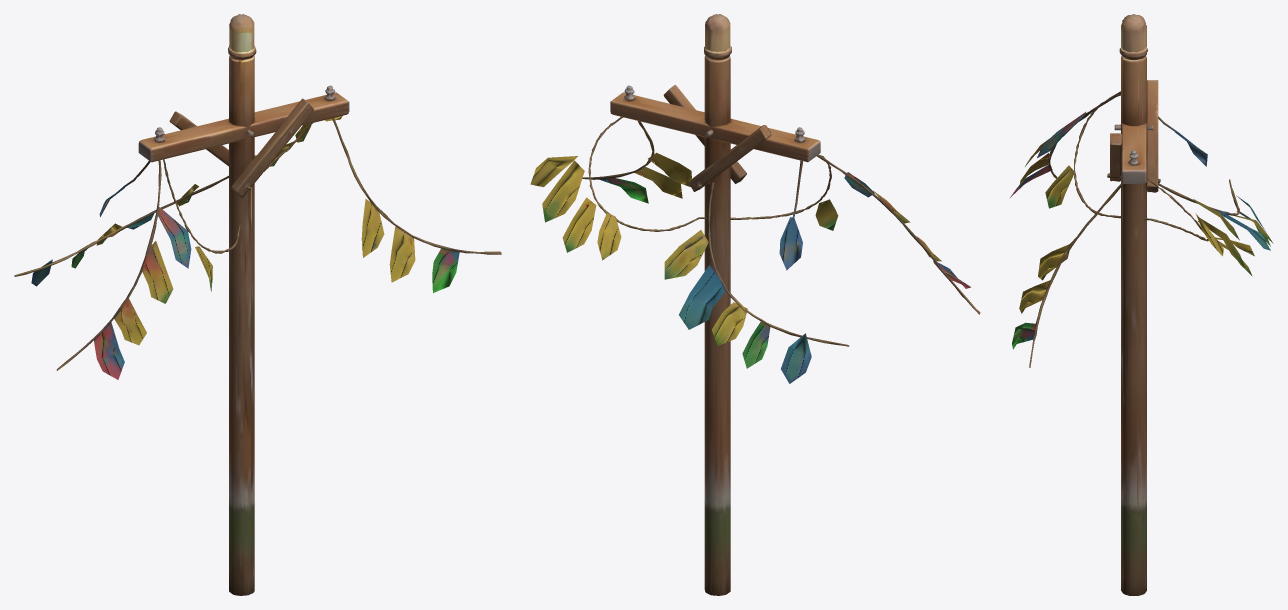
Rendered from poste_junino.glb.
The picture shows the model from 3 angles, left to right: view 1: azimuth 30°, elevation 25°; view 2: azimuth 150°, elevation 25°; view 3: azimuth 270°, elevation 25°; orthographic projection.
Visible parts, largest first — view 1: Poste junino; view 2: Poste junino; view 3: Poste junino.
Boxes of the visible parts, x1,y1,x2,y2 form: Poste junino: (14,14,501,595); Poste junino: (530,14,980,595); Poste junino: (1009,14,1273,595).
Bounding box in the file's own units: 0.7832 × 0.998 × 0.416.
1 material, 1 textured.
